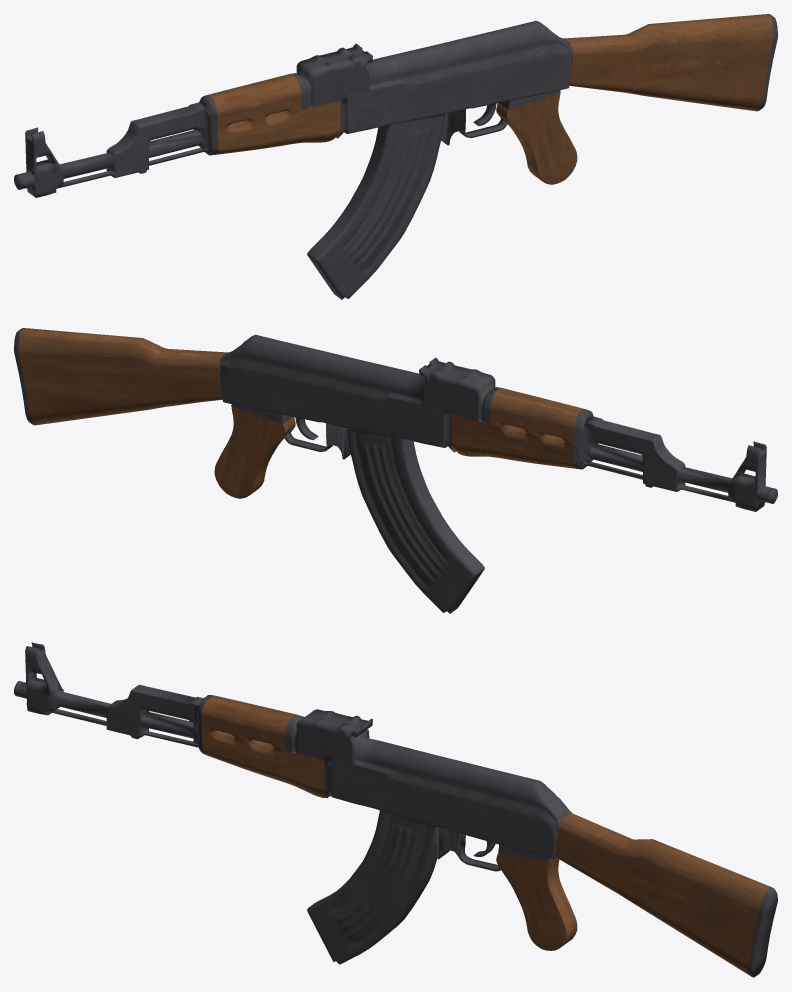
The picture shows the model from 3 angles, top to bottom: view 1: azimuth 30°, elevation 25°; view 2: azimuth 150°, elevation 25°; view 3: azimuth 330°, elevation 25°; orthographic projection.
Parts seen in each view (by area): view 1: AK47 - Nazar Okruzhko_1; view 2: AK47 - Nazar Okruzhko_1; view 3: AK47 - Nazar Okruzhko_1.
Boxes of the visible parts, x1,y1,x2,y2 form: AK47 - Nazar Okruzhko_1: (14,14,777,299); AK47 - Nazar Okruzhko_1: (14,328,777,613); AK47 - Nazar Okruzhko_1: (14,642,777,977).
Size of the model in its own units: 4.82 by 1.47 by 0.1779.
Materials: 2 (2 with a texture image).
